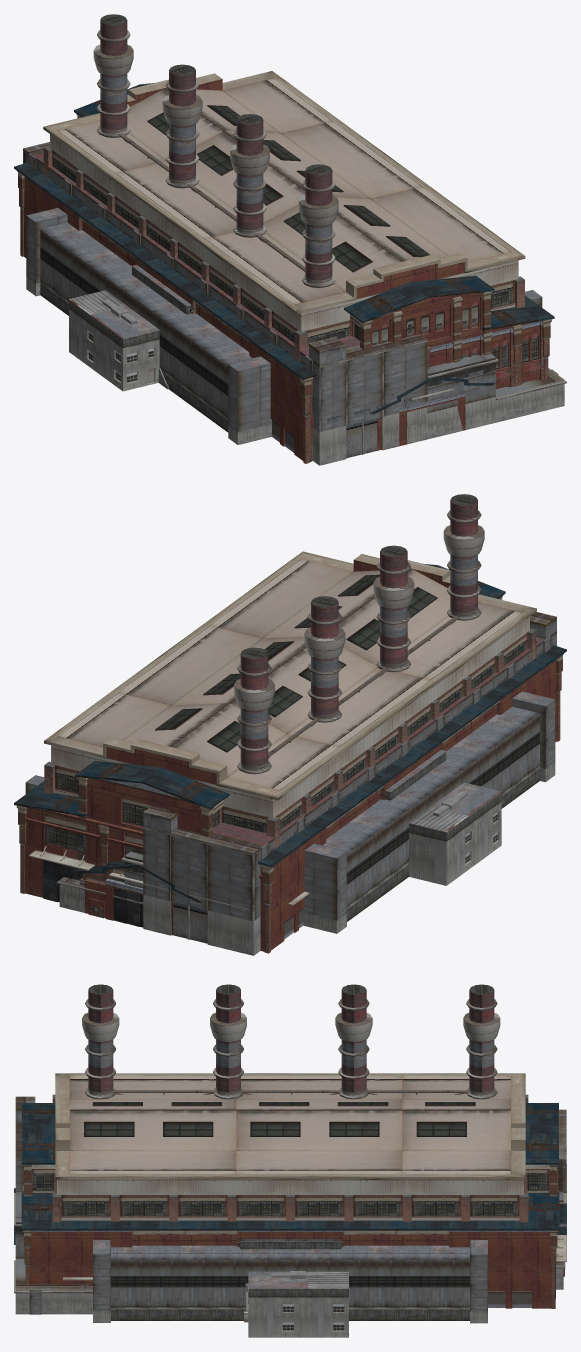
The model's file is port_halls.glb.
3 views of the same model, one above another, from view 1: azimuth 30°, elevation 25°; view 2: azimuth 150°, elevation 25°; view 3: azimuth 270°, elevation 25° (orthographic). The views are drawn at different scales.
Visible parts, largest first — view 1: hall_building_10, hall_powerplant, hall_factory_1, hall_hangar, hall_terminal, hall_factory_2, hall_warehouse_1; view 2: hall_building_10, hall_powerplant, hall_factory_1, hall_hangar, hall_terminal, hall_factory_2, hall_warehouse_1; view 3: hall_building_10, hall_factory_1, hall_hangar, hall_powerplant, hall_terminal, hall_warehouse_1.
Boxes of the visible parts, box(x1,y1,x2,y2) form: hall_building_10: box(43, 71, 525, 361); hall_powerplant: box(23, 14, 566, 465); hall_factory_1: box(14, 83, 554, 463); hall_hangar: box(26, 208, 542, 444); hall_terminal: box(69, 290, 168, 391); hall_factory_2: box(370, 377, 495, 450); hall_warehouse_1: box(132, 264, 196, 314); hall_building_10: box(44, 551, 536, 905); hall_powerplant: box(57, 494, 556, 955); hall_factory_1: box(14, 564, 566, 953); hall_hangar: box(25, 691, 555, 933); hall_terminal: box(409, 782, 501, 885); hall_factory_2: box(75, 861, 201, 935); hall_warehouse_1: box(380, 750, 446, 800); hall_building_10: box(52, 1073, 528, 1280); hall_factory_1: box(21, 1103, 566, 1308); hall_hangar: box(93, 1240, 487, 1323); hall_powerplant: box(14, 984, 566, 1314); hall_terminal: box(244, 1271, 348, 1337); hall_warehouse_1: box(237, 1239, 343, 1249).
Bounding box in the file's own units: 5 × 3.26 × 7.
9 materials, 9 textured.
